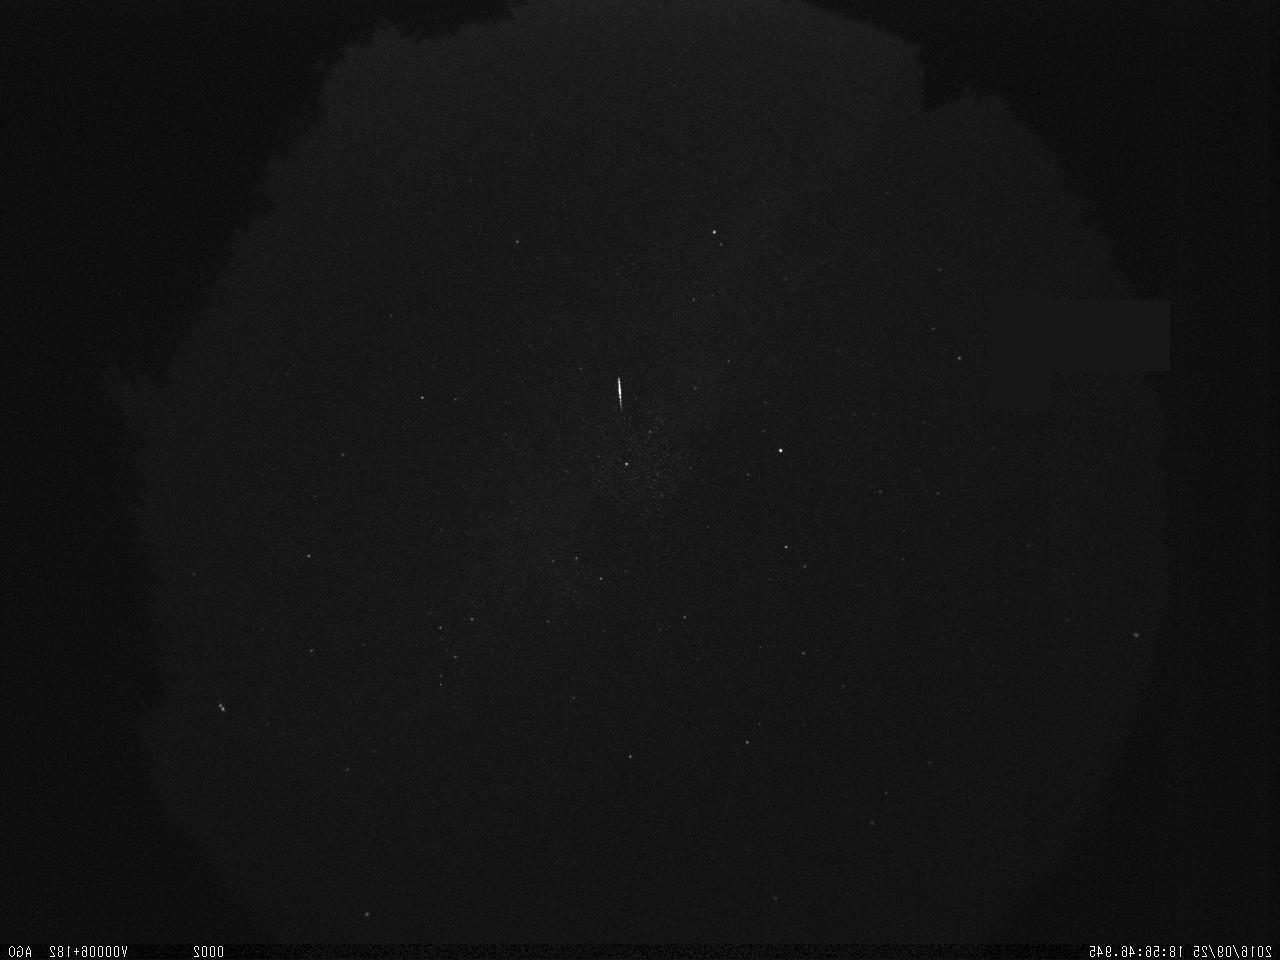meteor: (613, 368, 627, 414)
